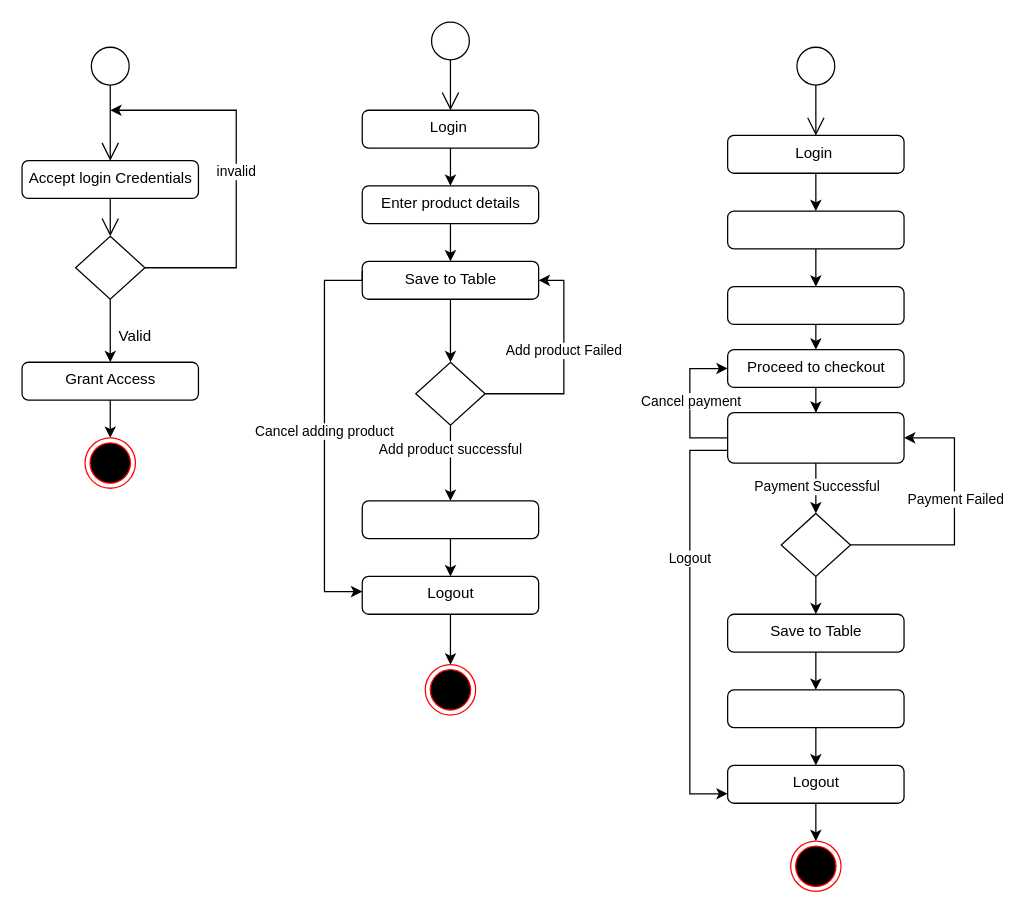
Some shapes in this 1024 by 914 pixel diagram are drawn without their labels. The centre of each missing label's shape, as x and y in pixels:
Add groceries to cart: point 815,229
Click on cart: point 815,304
Display all Product: point 450,519
Display Payment Details: point 815,708
Enter payment info and make payment: point 815,437
